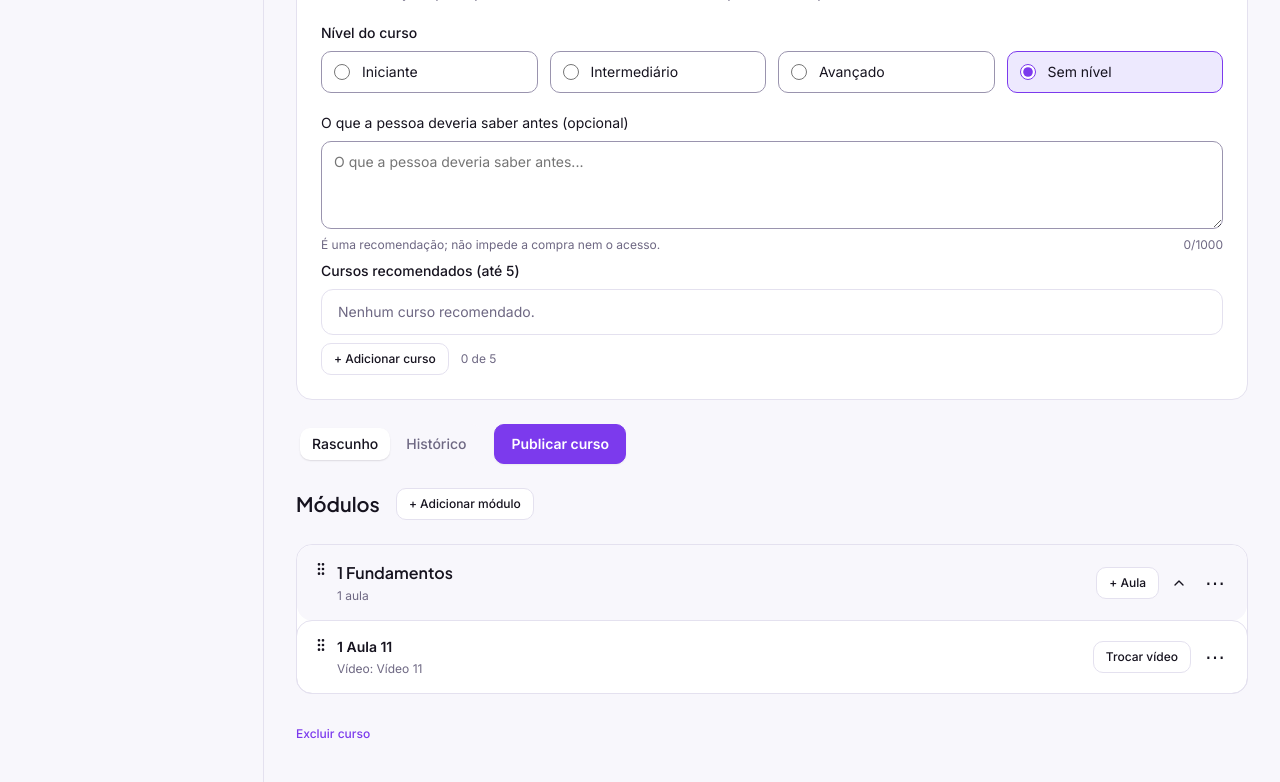
Test case: authoring editor against Figma › uses singular and plural counts, numbers without a dot and a single move item
(page scrolled)
Expected: the heading "1 Fundamentos" is shown, [337,562,453,583]
Expected: the element "Fundamentos" shows "1 aula", [337,588,369,603]
Click the button named "Ações de Aula 11".
click(1215, 657)  # box [1199,641,1231,673]
(page scrolled)
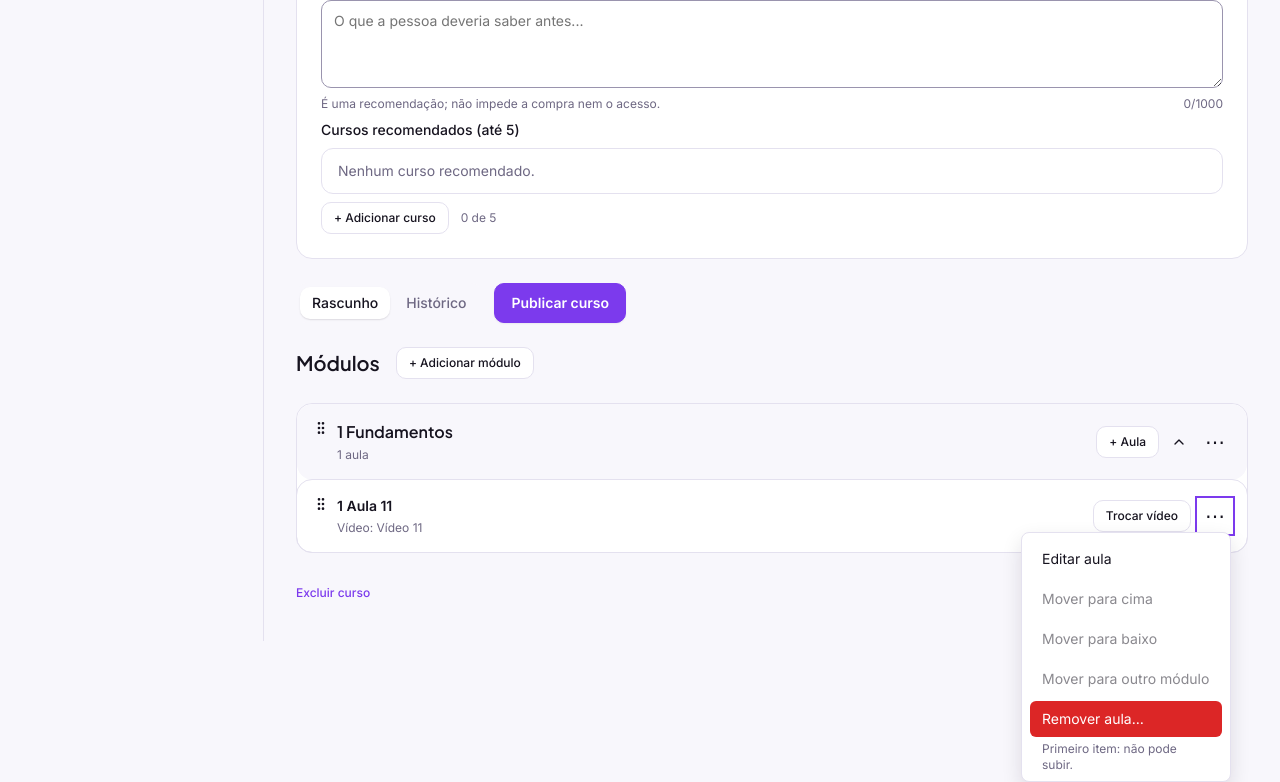
Result: the number of buttons "Mover para outro módulo" is 1 at [1030,661,1222,697]
Result: the button "Mover para outro módulo" is disabled at [1030,661,1222,697]
Result: the text "Primeiro item: não pode subir." is shown at [1042,741,1177,772]
